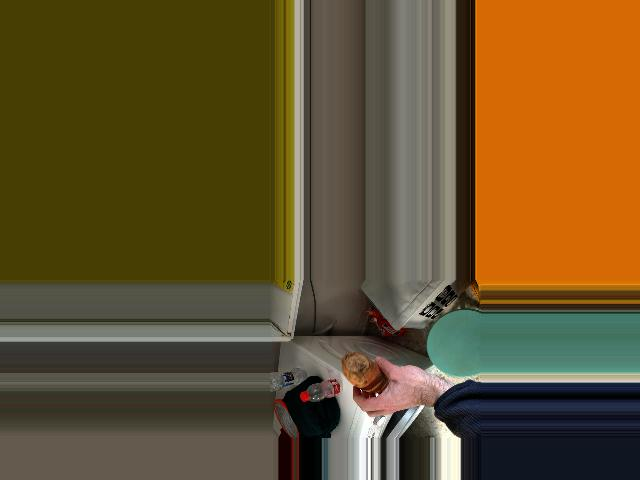sweet_potato: (340, 353, 388, 392)
